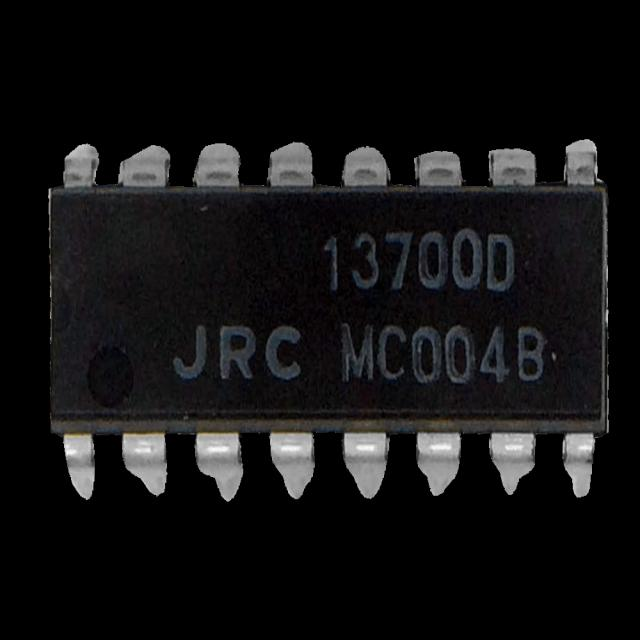IC: (49, 137, 620, 488)
